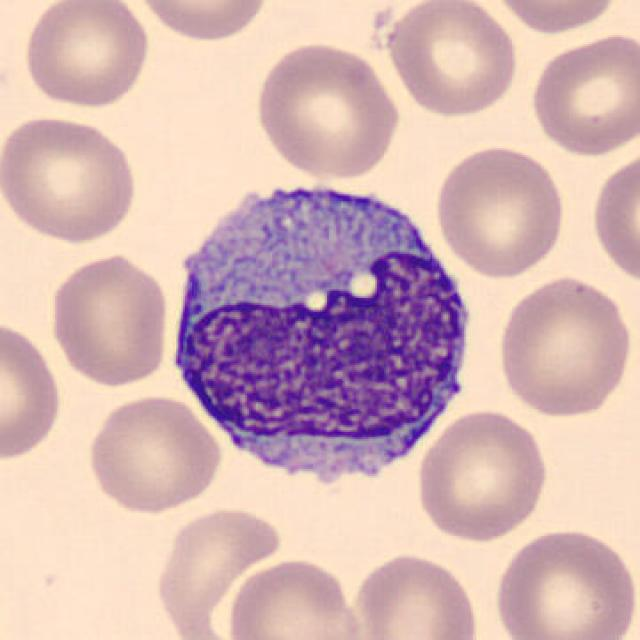Monocyte: (158, 160, 484, 506)
RBC: (251, 37, 404, 182), (492, 272, 634, 419), (413, 405, 551, 545), (432, 141, 569, 280), (0, 111, 142, 245), (151, 502, 286, 638), (44, 250, 172, 388), (82, 391, 224, 515), (490, 523, 638, 640), (380, 0, 521, 120), (19, 0, 153, 111), (526, 28, 638, 159), (348, 550, 484, 640), (224, 555, 368, 640), (0, 316, 66, 464), (588, 146, 638, 289), (130, 0, 274, 44), (487, 0, 625, 35)
